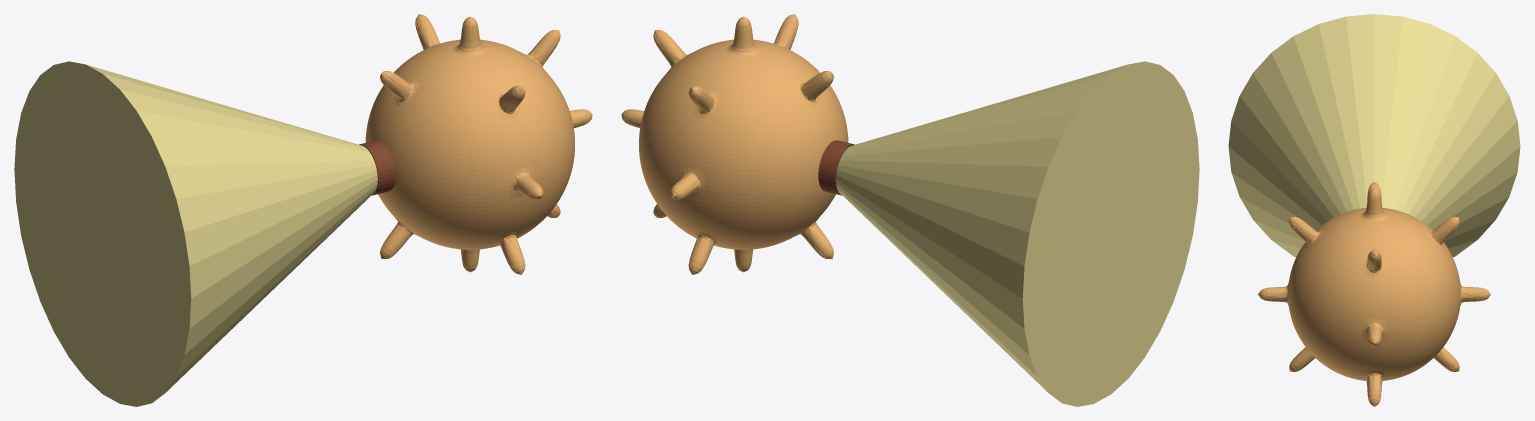
Rendered from sentry.fbx.
The picture shows the model from 3 angles, left to right: view 1: azimuth 30°, elevation 25°; view 2: azimuth 150°, elevation 25°; view 3: azimuth 270°, elevation 25°; orthographic projection. The views are drawn at different scales.
Parts seen in each view (by area): view 1: SearchLight, Sentry, Eye; view 2: SearchLight, Sentry, Eye; view 3: SearchLight, Sentry.
Boxes of the visible parts, box(x1,y1,x2,y2) form: SearchLight: box(14, 61, 377, 406); Sentry: box(365, 14, 592, 274); Eye: box(359, 140, 395, 195); SearchLight: box(836, 61, 1199, 406); Sentry: box(621, 14, 848, 274); Eye: box(818, 140, 854, 195); SearchLight: box(1228, 14, 1520, 257); Sentry: box(1258, 182, 1490, 406).
Bounding box in the file's own units: 1599 × 1000 × 1000.
